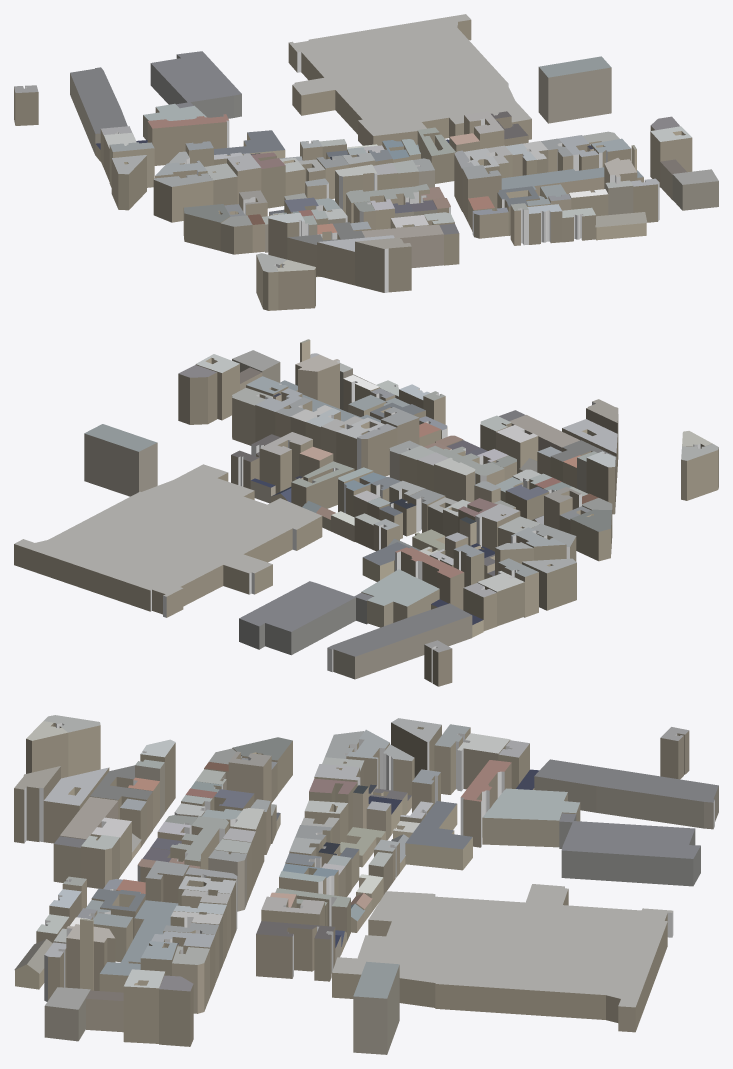
3 views of the same model, one above another, from view 1: azimuth 30°, elevation 25°; view 2: azimuth 150°, elevation 25°; view 3: azimuth 270°, elevation 25° (orthographic). The views are drawn at different scales.
Parts seen in each view (by area): view 1: tuile; view 2: tuile; view 3: tuile.
Part boxes in pixels (box(x1,y1,x2,y2)): tuile: box(14, 14, 718, 310); tuile: box(14, 339, 718, 686); tuile: box(14, 715, 718, 1054).
Bounding box in the file's own units: 259 × 34.42 × 270.
